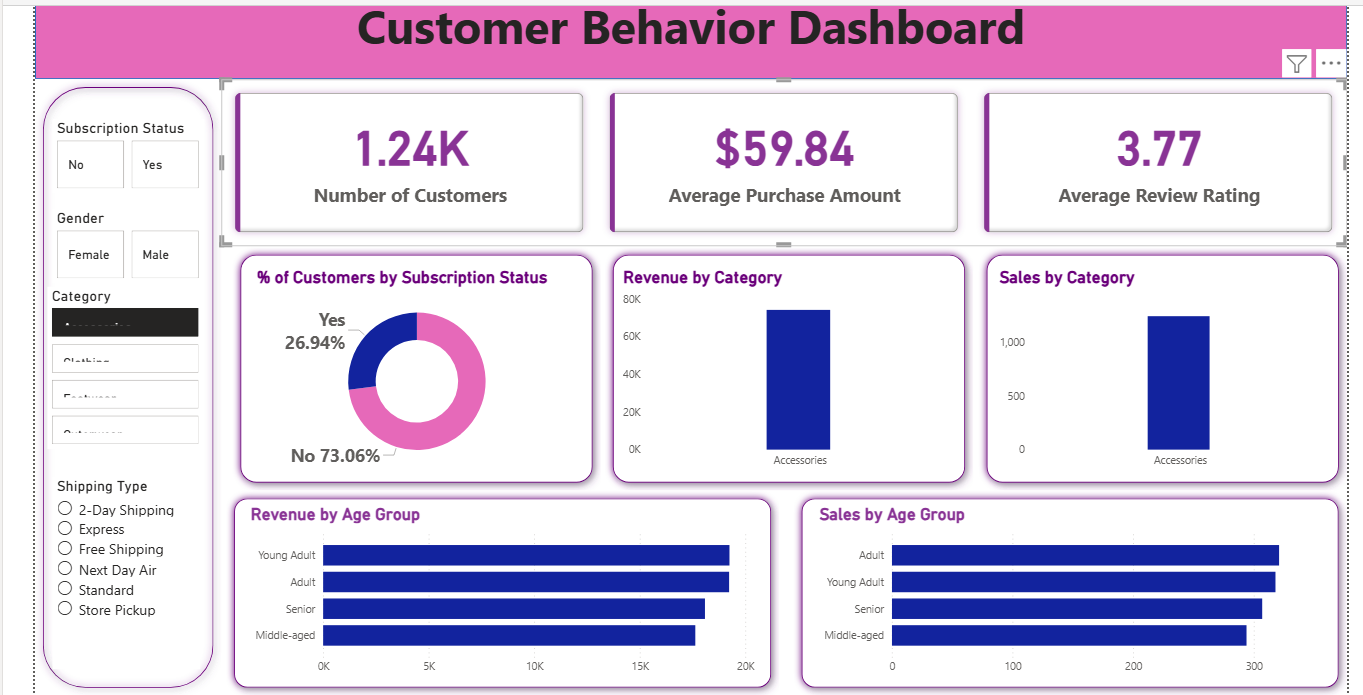

Layout of this report page (visuals, bound fields, positions):
{"tool":"powerbi","page":{"name":"Page 1","canvas":[1500,820],"ordinal":0},"visuals":[{"type":"cardVisual","fields":{"Data":["public customer.Number of Customers","public customer.Average Purchase Amount","public customer.Average Review Rating"]},"box":[212.9,115.3,1286.5,191.6],"z":2000},{"type":"shape","box":[218.3,585.6,631.7,234.2],"z":2500,"group":"g1"},{"type":"shape","box":[0,0,1499.4,115.3],"z":3000},{"type":"textbox","box":[0,12.4,1499.4,102.9],"z":4000},{"type":"shape","box":[225.4,307,420.5,278.6],"z":5000},{"type":"donutChart","title":"% of Customers by Subscription Status","fields":{"Category":["public customer.subscription_status"],"Y":["Sum(public customer.customer_id)"]},"box":[248.4,331.8,376.2,237.8],"z":6000},{"type":"shape","box":[1078.9,307,420.5,278.6],"z":7000},{"type":"shape","box":[652.1,307,420.5,278.6],"z":8000},{"type":"clusteredColumnChart","title":"Revenue by Category","fields":{"Y":["Sum(public customer.purchase_amount)"],"Category":["public customer.category"]},"box":[667.2,331.8,385.1,237.8],"z":9000},{"type":"clusteredColumnChart","title":"Sales by Category","fields":{"Y":["Sum(public customer.customer_id)"],"Category":["public customer.category"]},"box":[1096.6,331.8,385.1,237.8],"z":10000},{"type":"shape","box":[0,115.3,212.9,704.5],"z":11000},{"type":"advancedSlicerVisual","fields":{"Values":["public customer.subscription_status"]},"box":[19.5,161.5,173.9,85.2],"z":12000},{"type":"advancedSlicerVisual","fields":{"Values":["public customer.gender"]},"box":[19.5,264.4,173.9,85.2],"z":13000},{"type":"advancedSlicerVisual","fields":{"Values":["public customer.category"]},"box":[14.3,352.9,178.6,185.7],"z":14000},{"type":"listSlicer","fields":{"Values":["public customer.shipping_type"]},"box":[19.5,569.6,168.6,220],"z":15000},{"type":"shape","box":[867.7,585.6,631.7,234.2],"z":16000},{"type":"clusteredBarChart","title":"Sales by Age Group","fields":{"Y":["Sum(public customer.customer_id)"],"Category":["public customer.age_group"]},"box":[890.8,601.5,585.6,204.1],"z":17000},{"type":"clusteredBarChart","title":"Revenue by Age Group","fields":{"Y":["Sum(public customer.purchase_amount)"],"Category":["public customer.age_group"]},"box":[241.4,601.6,585.6,204.1],"z":17500,"group":"g1"},{"type":"group","id":"g1","title":"Group 1","box":[218.3,585.6,631.7,234.2],"z":17501}]}

Visuals, with their boxes in screenshot pixels (x1, y1, x2, y2):
cardVisual - public customer.Number of Customers x public customer.Average Purchase Amount: (227,82,1343,248)
shape: (232,490,780,693)
shape: (43,0,1343,82)
textbox: (43,0,1343,82)
shape: (238,248,603,490)
"% of Customers by Subscription Status" donutChart: (258,270,584,476)
shape: (978,248,1343,490)
shape: (608,248,973,490)
"Revenue by Category" clusteredColumnChart: (621,270,955,476)
"Sales by Category" clusteredColumnChart: (994,270,1328,476)
shape: (43,82,227,693)
advancedSlicerVisual - public customer.subscription_status: (60,122,210,196)
advancedSlicerVisual - public customer.gender: (60,211,210,285)
advancedSlicerVisual - public customer.category: (55,288,210,449)
listSlicer - public customer.shipping_type: (60,476,206,667)
shape: (795,490,1343,693)
"Sales by Age Group" clusteredBarChart: (815,504,1323,681)
"Revenue by Age Group" clusteredBarChart: (252,504,760,681)
"Group 1" group: (232,490,780,693)
